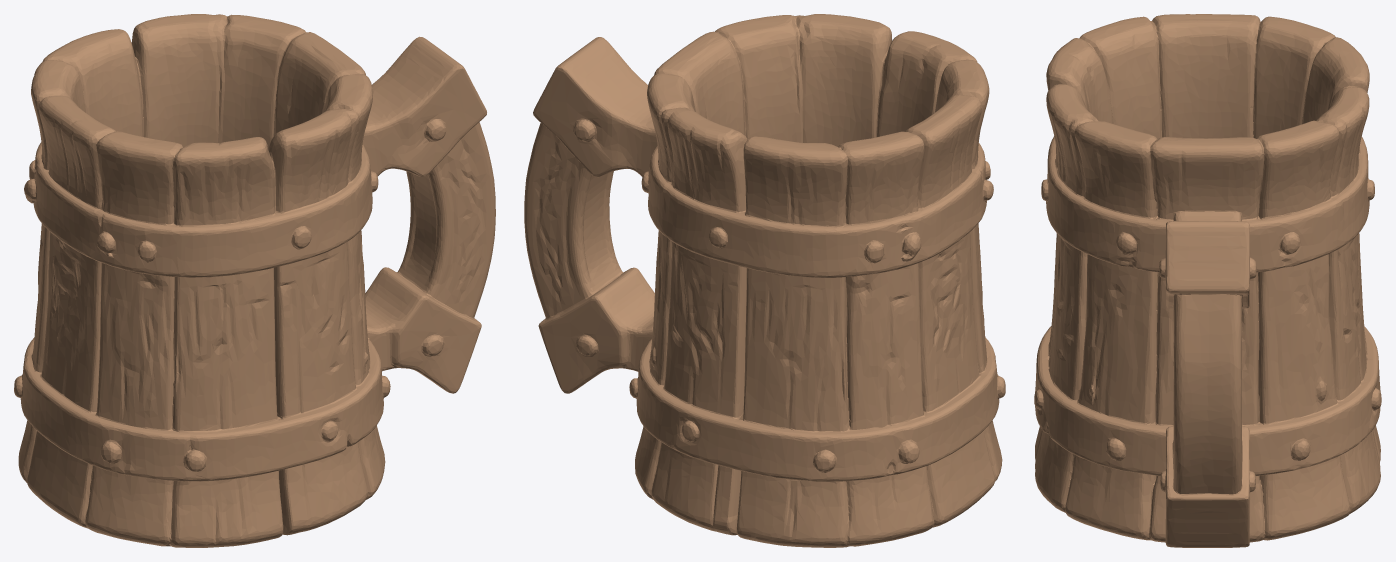
The picture shows the model from 3 angles, left to right: view 1: azimuth 30°, elevation 25°; view 2: azimuth 150°, elevation 25°; view 3: azimuth 270°, elevation 25°; orthographic projection.
Parts seen in each view (by area): view 1: Tankard; view 2: Tankard; view 3: Tankard.
Part boxes in pixels (bbox=[...]): Tankard: bbox=[14, 14, 495, 547]; Tankard: bbox=[524, 14, 1005, 547]; Tankard: bbox=[1034, 14, 1381, 547].
Bounding box in the file's own units: 0.1987 × 0.18 × 0.138.
